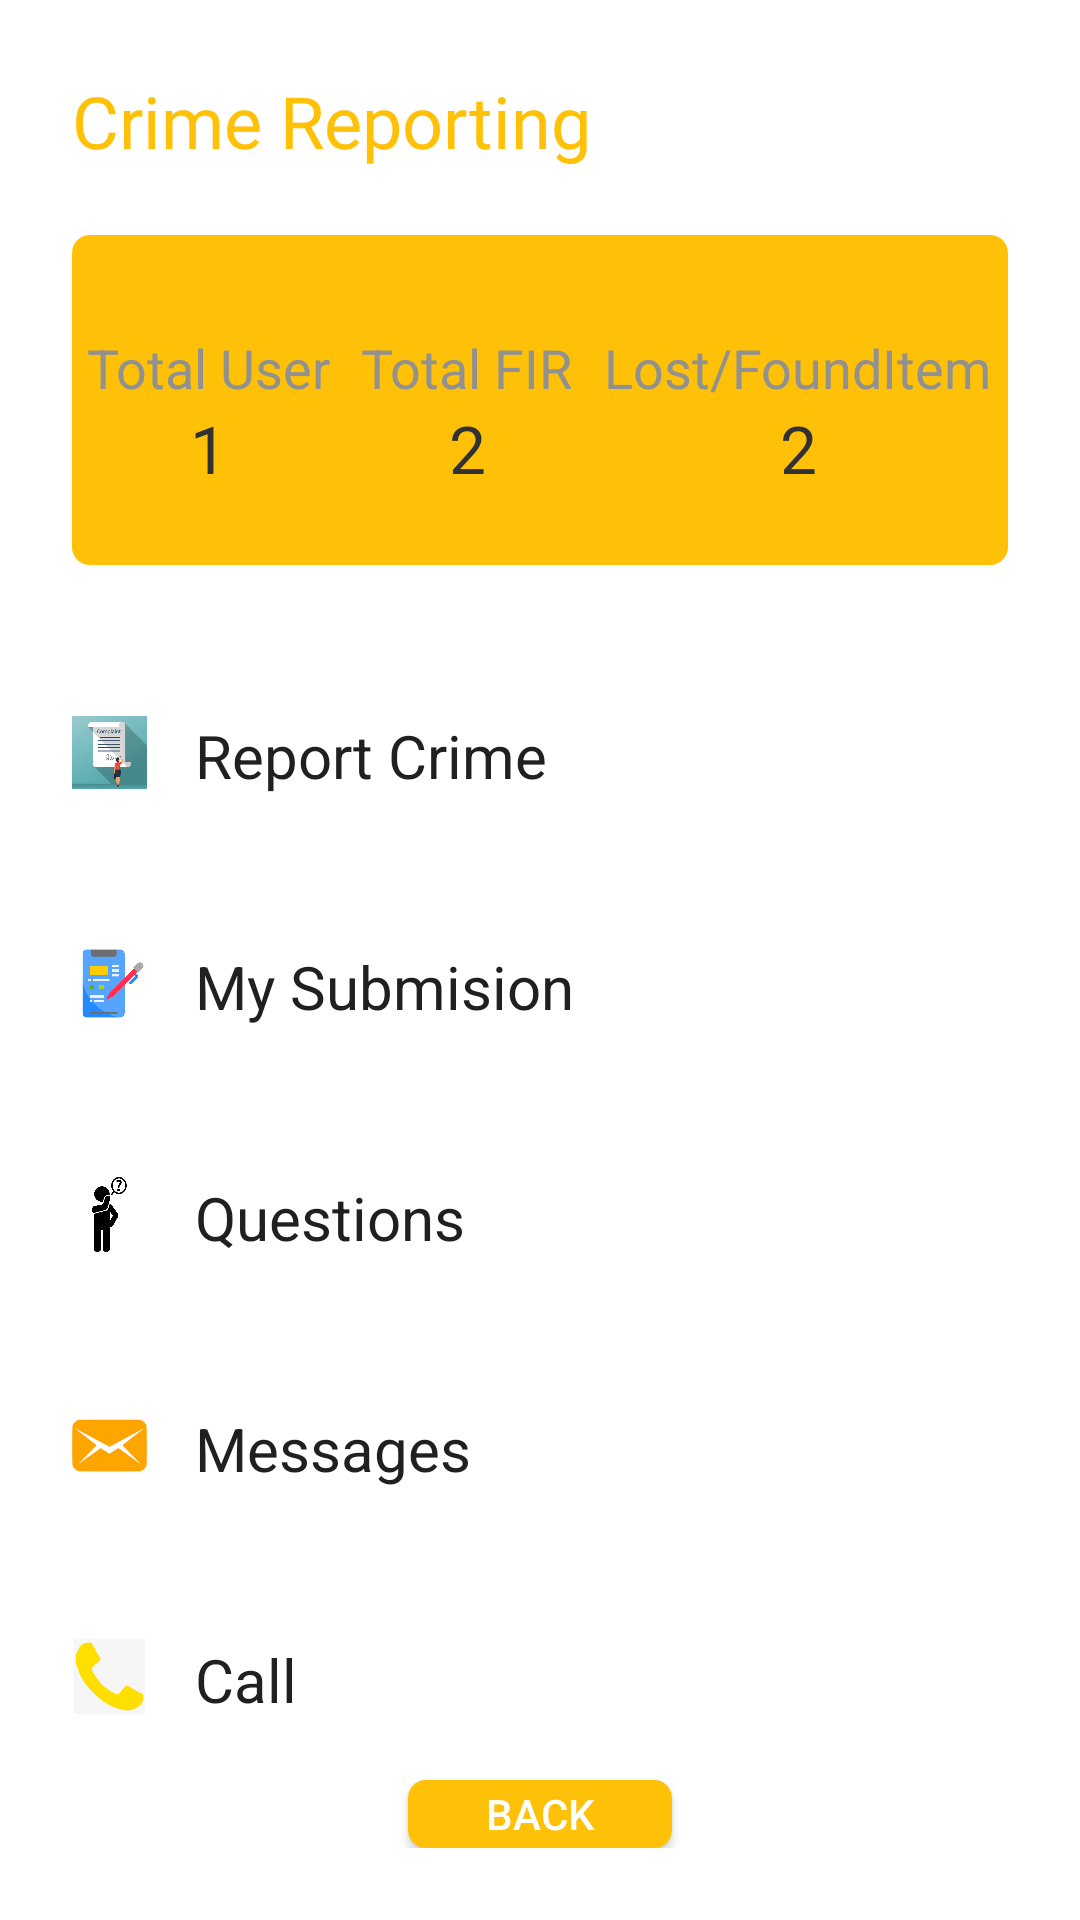

Point at icon controls on the screen. Image size 1080 x 1920, points as [x,y].
man: [109,1214]
messager: [109,1445]
